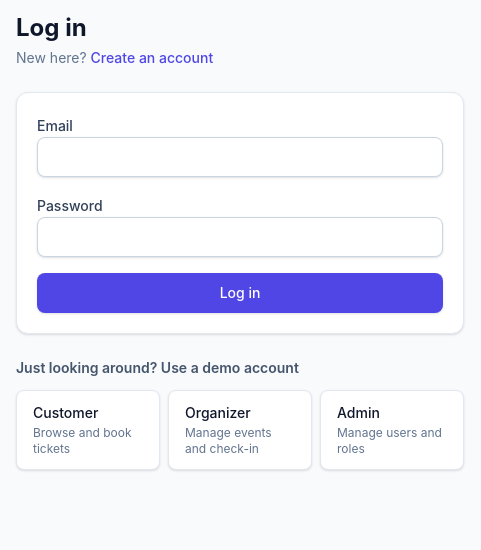
Scenario: LoginPage › shows the server error for bad credentials
Type "nobody@example.com" into the field labelled "Email".
click(240, 157); type("nobody@example.com")  # box top-left (37, 137), bottom-right (443, 177)
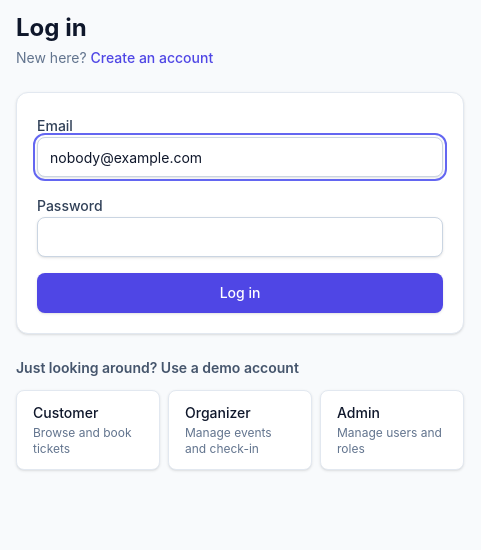
Type "wrong" into the password field labelled "Password".
click(240, 237); type("wrong")  # box top-left (37, 217), bottom-right (443, 257)
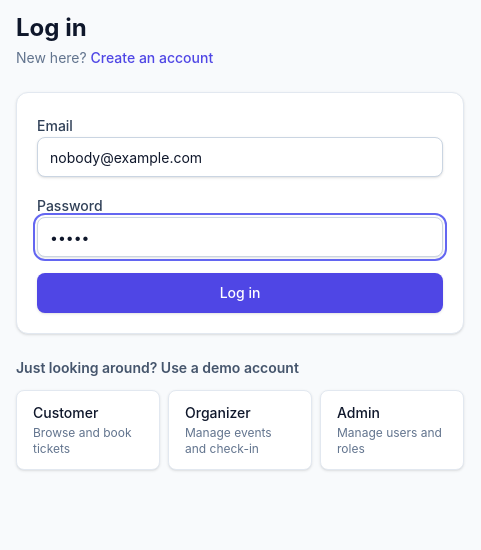
Click the button "Log in".
click(240, 293)  # box top-left (37, 273), bottom-right (443, 313)
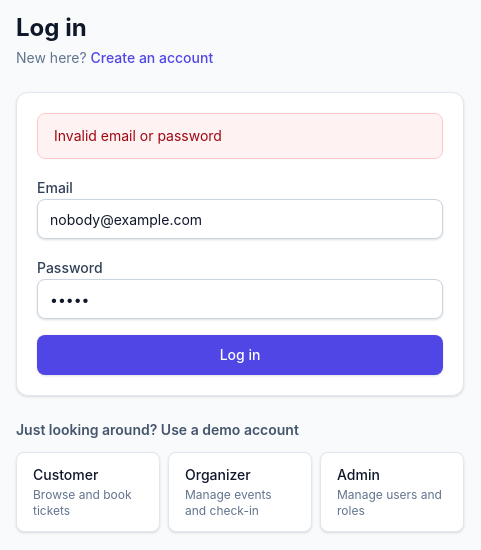
Expected: the message reads "Invalid email or password", top-left (54, 127), bottom-right (222, 144)
